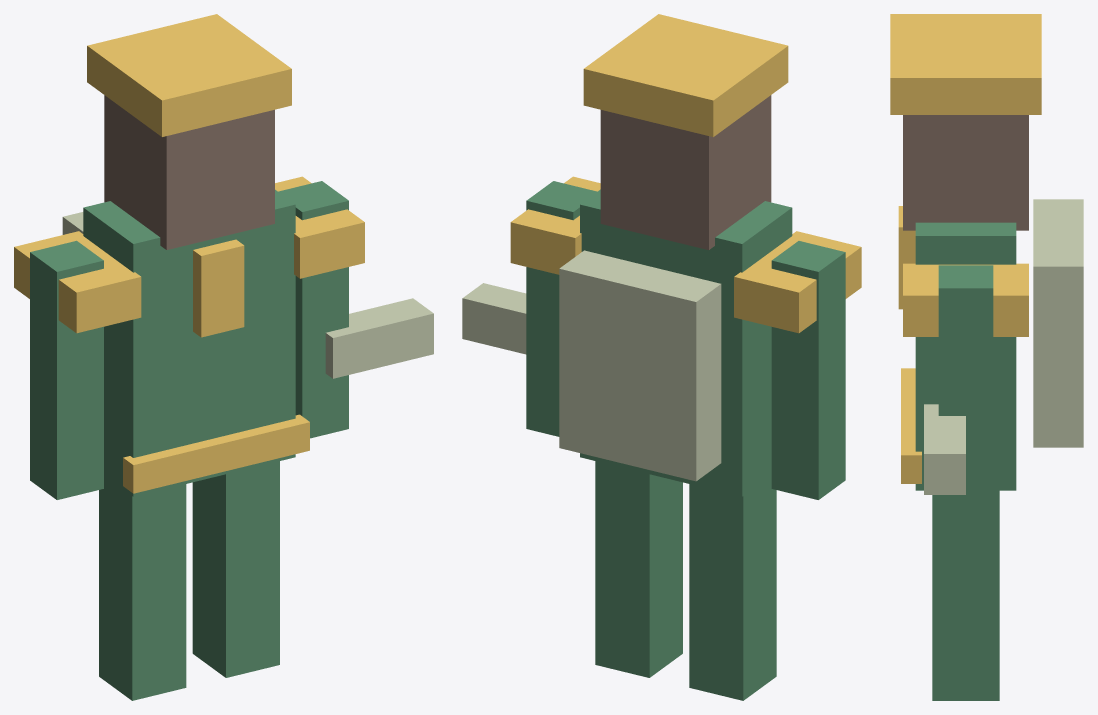
Rendered from 12_kael_tideforged_archivist_near.glb.
The picture shows the model from 3 angles, left to right: view 1: azimuth 30°, elevation 25°; view 2: azimuth 150°, elevation 25°; view 3: azimuth 270°, elevation 25°; orthographic projection.
Parts seen in each view (by area): view 1: Kael Tideforged, Archivist near; view 2: Kael Tideforged, Archivist near; view 3: Kael Tideforged, Archivist near.
Boxes of the visible parts, bbox=[...] form: Kael Tideforged, Archivist near: bbox=[14, 14, 433, 700]; Kael Tideforged, Archivist near: bbox=[462, 14, 861, 700]; Kael Tideforged, Archivist near: bbox=[890, 14, 1083, 700].
Size of the model in its own units: 0.9634 by 1.53 by 0.4324.
